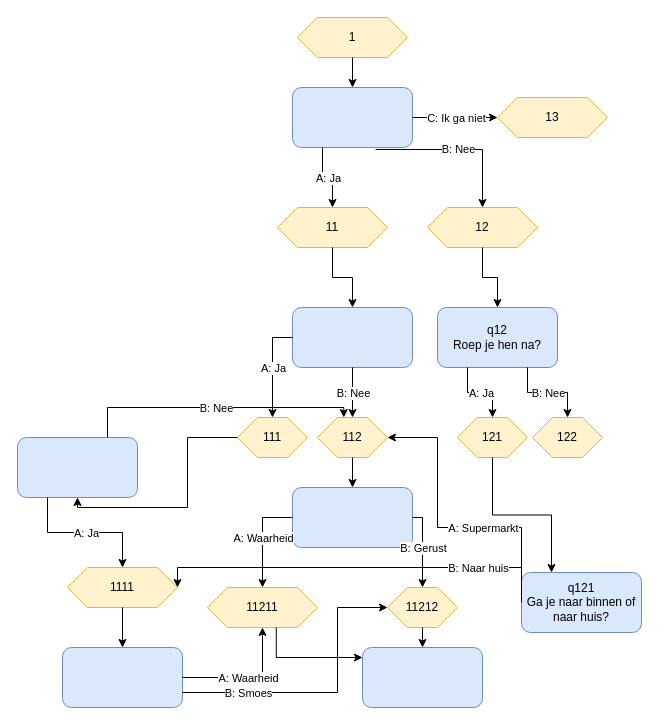
Some shapes in this 659 by 725 pixel diagram are drawn without their labels. The centre of each missing label's shape, as x and y in pixels:
q1 Doe je voorzichtig?: the point at 352,117
q11 Vraag je aan een omstander wat er aan de hand is?: the point at 352,337
q111 Moet ik naar huis gaan?: the point at 77,467
q1111 Waarheid of smoes?: the point at 122,677
q1121 Stel je ze gerust of waarheid?: the point at 352,517
q11212 Vind je dit een goed idee? (vluchten): the point at 422,677
